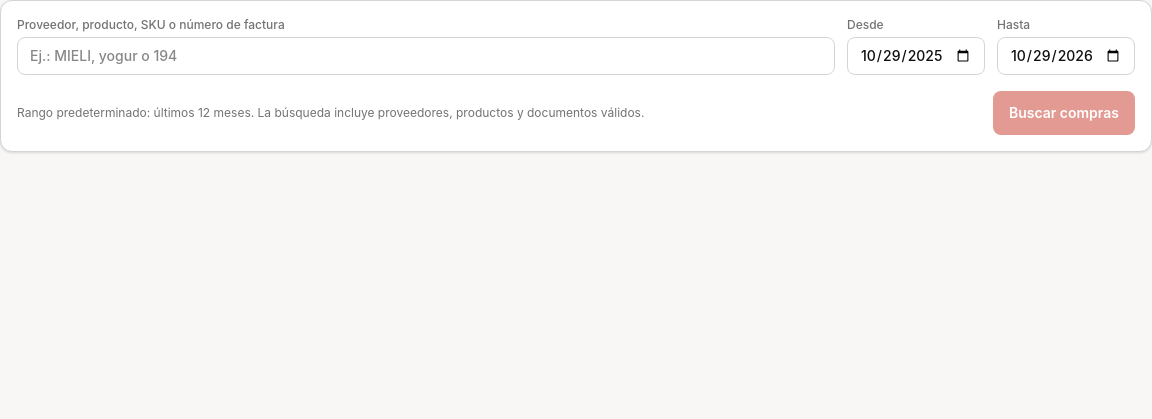
Scenario: BuscarComprasTab › searches across invoice, supplier and product and links the complete result row
Type "Alpha part" into the search field named "Buscar proveedor, producto, SKU o número de factura".
click(426, 56); type("Alpha part")  # box top-left (17, 37), bottom-right (835, 75)
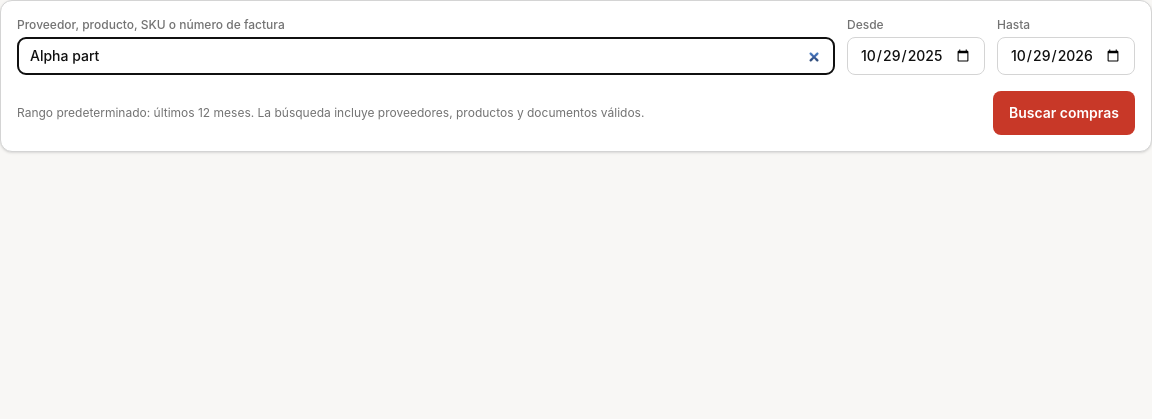
Click the button "Buscar compras".
click(1064, 113)  # box top-left (993, 91), bottom-right (1135, 135)
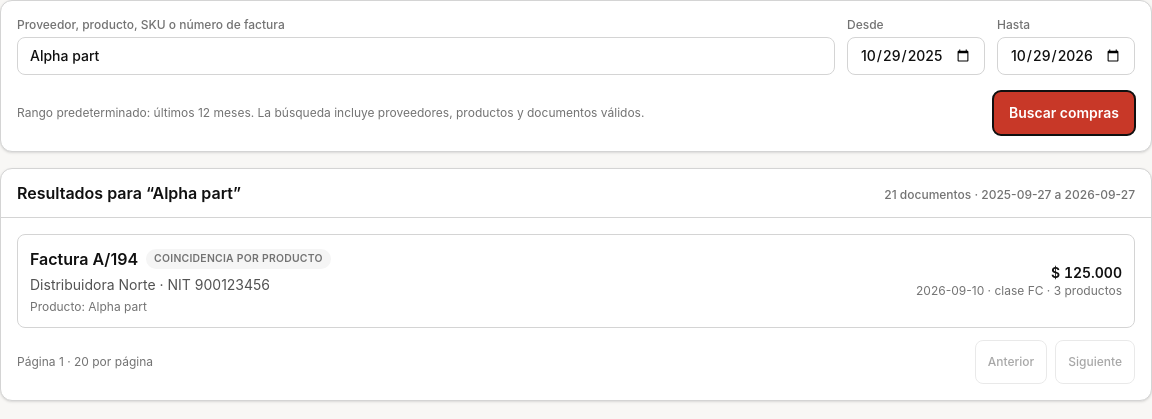
Expected: the heading "Resultados para “Alpha part”" is shown, top-left (17, 181), bottom-right (241, 205)
Expected: the link with aria-label "Abrir factura A/194 clase FC de Distribuidora Norte" shows "Alpha part", top-left (17, 234), bottom-right (1135, 328)
